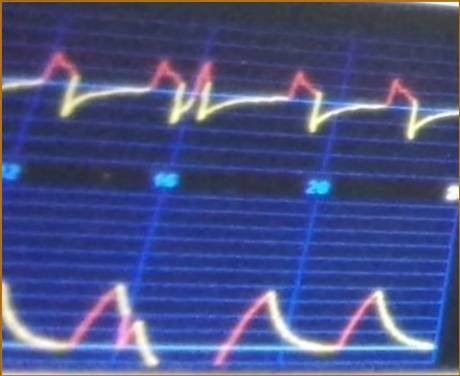Double_Triggering Flow: (4, 37, 457, 155)
Double_Triggering Volume: (2, 236, 435, 366)
